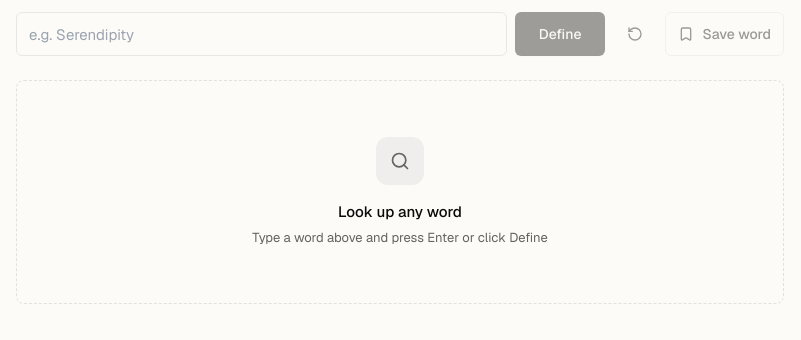
Test: WordDefinition › shows pronunciation error when service fails
Type "serendipity" into the field with placeholder "e.g. Serendipity".
click(261, 34); type("serendipity")  # box [16, 12, 507, 56]
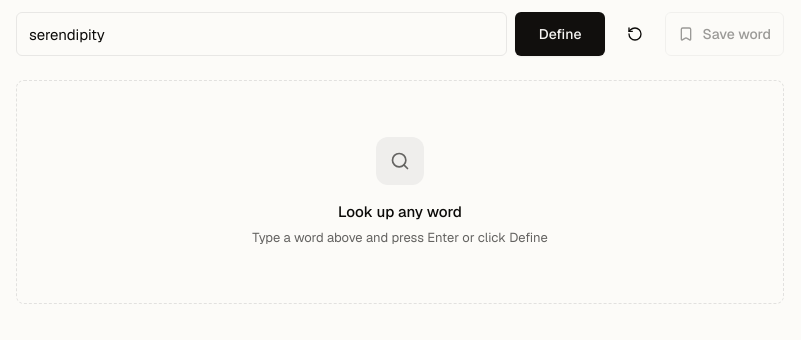
Click the button "Define".
click(560, 34)  # box [515, 12, 606, 56]
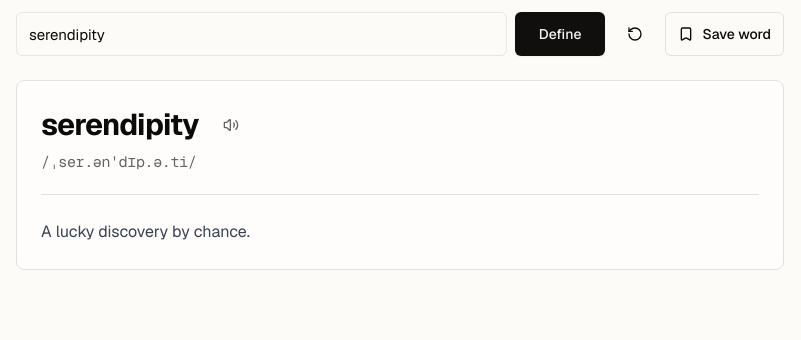
Click the button named "play pronunciation for serendipity".
click(231, 125)  # box [211, 105, 251, 145]
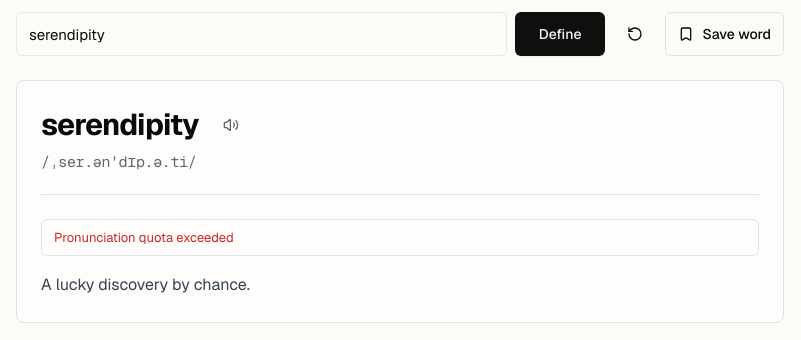
Now the text "Pronunciation quota exceeded" is shown, box [41, 218, 759, 256]
